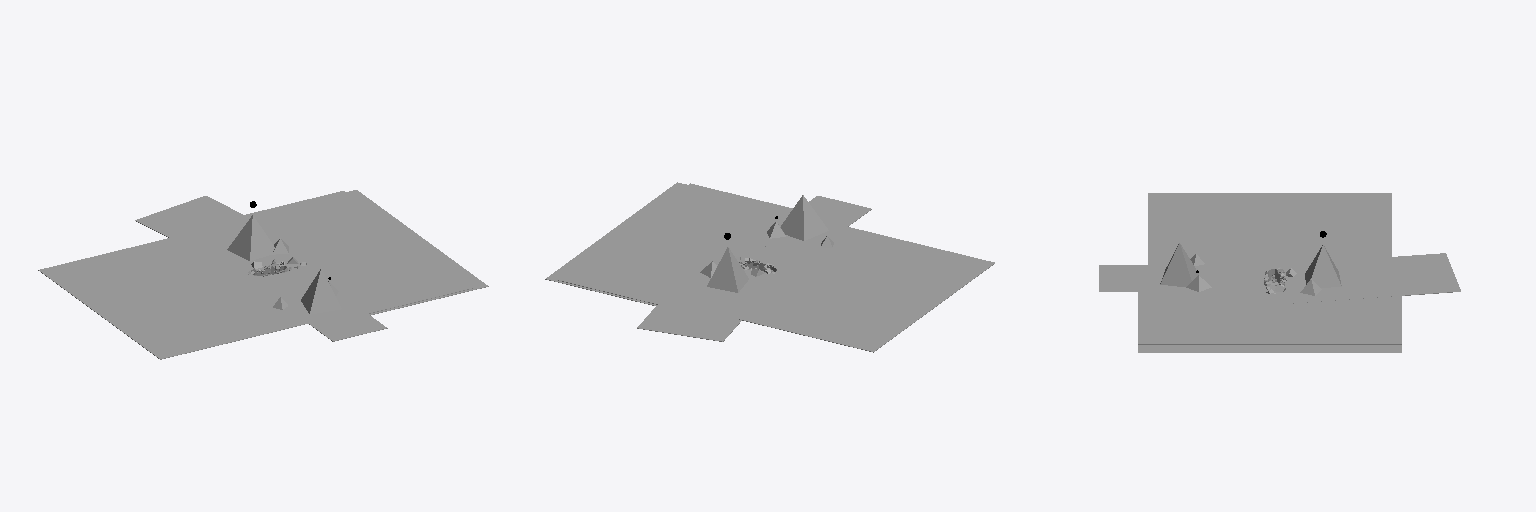
File: Landscape_Final_withSpaceship.obj
3 renders of one model, left to right at view 1: azimuth 30°, elevation 25°; view 2: azimuth 150°, elevation 25°; view 3: azimuth 270°, elevation 25°, orthographic.
Visible parts, largest first — view 1: pasted__pasted__pasted__pasted__pCube1 pasted__pasted__pasted__g, pasted__pCube1 group1, pasted__pasted__pCube1 pasted__group1 group2, pasted__pasted__pasted__pCube1 pasted__pasted__group1 pasted__gr, group35 pasted__pasted__pasted__pPyramid1 pasted__pasted__group , pasted__pasted__pPyramid1 pasted__group group10; view 2: pasted__pasted__pasted__pasted__pCube1 pasted__pasted__pasted__g, pasted__pCube1 group1, pasted__pasted__pCube1 pasted__group1 group2, pasted__pasted__pasted__pCube1 pasted__pasted__group1 pasted__gr, pasted__pasted__pPyramid1 pasted__group group10, group35 pasted__pasted__pasted__pPyramid1 pasted__pasted__group ; view 3: pasted__pasted__pasted__pasted__pCube1 pasted__pasted__pasted__g, pasted__pCube1 group1, pasted__pasted__pCube1 pasted__group1 group2, pasted__pasted__pasted__pCube1 pasted__pasted__group1 pasted__gr, pasted__pasted__pPyramid1 pasted__group group10, group35 pasted__pasted__pasted__pPyramid1 pasted__pasted__group .
Part boxes in pixels (x1,y1,x2,y2): pasted__pasted__pasted__pasted__pCube1 pasted__pasted__pasted__g: (38, 191, 475, 359); pasted__pCube1 group1: (135, 196, 313, 275); pasted__pasted__pCube1 pasted__group1 group2: (253, 272, 387, 341); pasted__pasted__pasted__pCube1 pasted__pasted__group1 pasted__gr: (346, 190, 488, 315); group35 pasted__pasted__pasted__pPyramid1 pasted__pasted__group : (227, 215, 274, 260); pasted__pasted__pPyramid1 pasted__group group10: (301, 268, 341, 314); pasted__pasted__pasted__pasted__pCube1 pasted__pasted__pasted__g: (558, 183, 994, 352); pasted__pCube1 group1: (637, 260, 779, 341); pasted__pasted__pCube1 pasted__group1 group2: (750, 196, 871, 267); pasted__pasted__pasted__pCube1 pasted__pasted__group1 pasted__gr: (545, 182, 687, 305); pasted__pasted__pPyramid1 pasted__group group10: (781, 195, 828, 240); group35 pasted__pasted__pasted__pPyramid1 pasted__pasted__group : (707, 247, 748, 292); pasted__pasted__pasted__pasted__pCube1 pasted__pasted__pasted__g: (1138, 193, 1401, 344); pasted__pCube1 group1: (1278, 253, 1460, 303); pasted__pasted__pCube1 pasted__group1 group2: (1099, 265, 1260, 291); pasted__pasted__pasted__pCube1 pasted__pasted__group1 pasted__gr: (1138, 345, 1401, 352); pasted__pasted__pPyramid1 pasted__group group10: (1160, 243, 1198, 286); group35 pasted__pasted__pasted__pPyramid1 pasted__pasted__group : (1305, 245, 1341, 287).
Bounding box in the file's own units: 787 × 159 × 765.